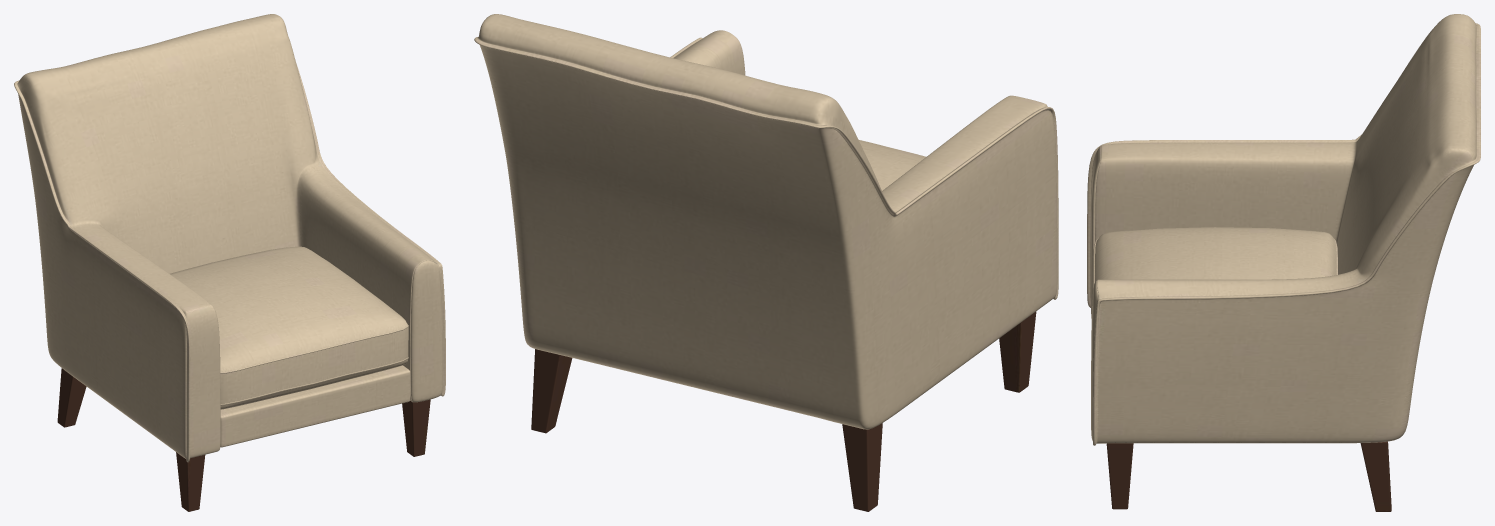
Rendered from armchair-track-arm.glb.
The picture shows the model from 3 angles, left to right: view 1: azimuth 30°, elevation 25°; view 2: azimuth 150°, elevation 25°; view 3: azimuth 270°, elevation 25°; orthographic projection. The views are drawn at different scales.
Visible parts, largest first — view 1: B07BWJMB9F; view 2: B07BWJMB9F; view 3: B07BWJMB9F.
Boxes of the visible parts, left/top/right/bottom form: B07BWJMB9F: left=14, top=14, right=445, bottom=511; B07BWJMB9F: left=474, top=14, right=1058, bottom=511; B07BWJMB9F: left=1087, top=14, right=1480, bottom=511.
Size of the model in its own units: 0.78 by 0.919 by 0.899.
Materials: 1 (1 with a texture image).
